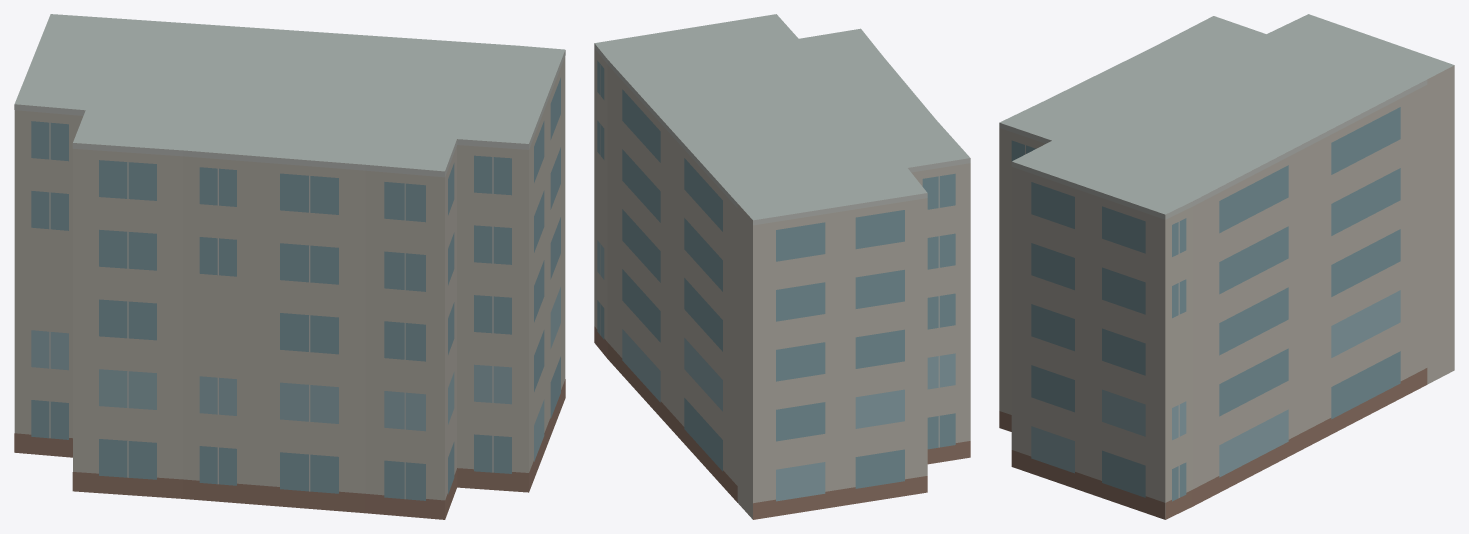
File: survey-upis-32681717.glb
3 views of the same model, side by side, from view 1: azimuth 30°, elevation 25°; view 2: azimuth 150°, elevation 25°; view 3: azimuth 270°, elevation 25° (orthographic). The views are drawn at different scales.
Parts seen in each view (by area): view 1: survey-upis-32681717.tmp; view 2: survey-upis-32681717.tmp; view 3: survey-upis-32681717.tmp.
Boxes of the visible parts, box(x1,y1,x2,y2) form: survey-upis-32681717.tmp: box(14, 14, 565, 519); survey-upis-32681717.tmp: box(594, 14, 970, 519); survey-upis-32681717.tmp: box(999, 14, 1454, 519).
Size of the model in its own units: 20.16 by 14.3 by 19.34.
